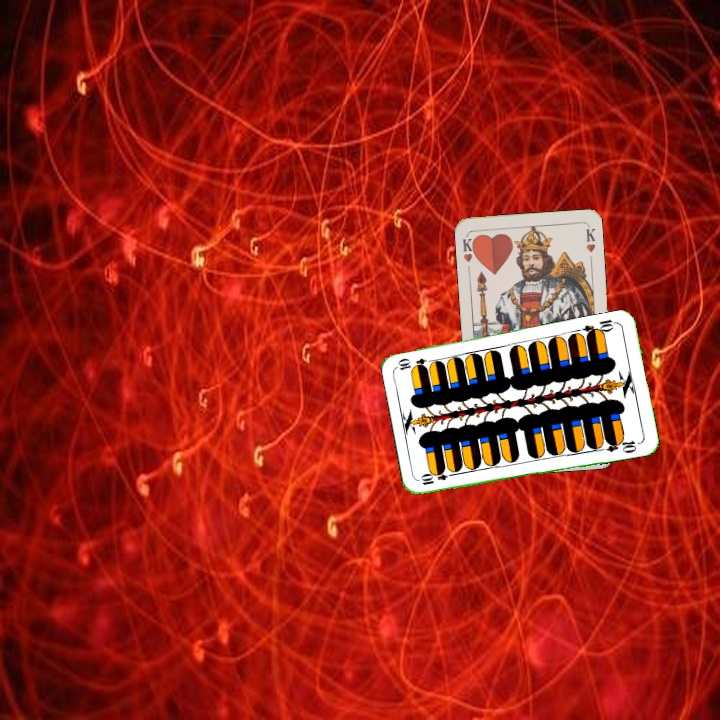E10: (580, 315, 621, 339), (417, 467, 457, 488)
HK: (459, 232, 479, 264)
